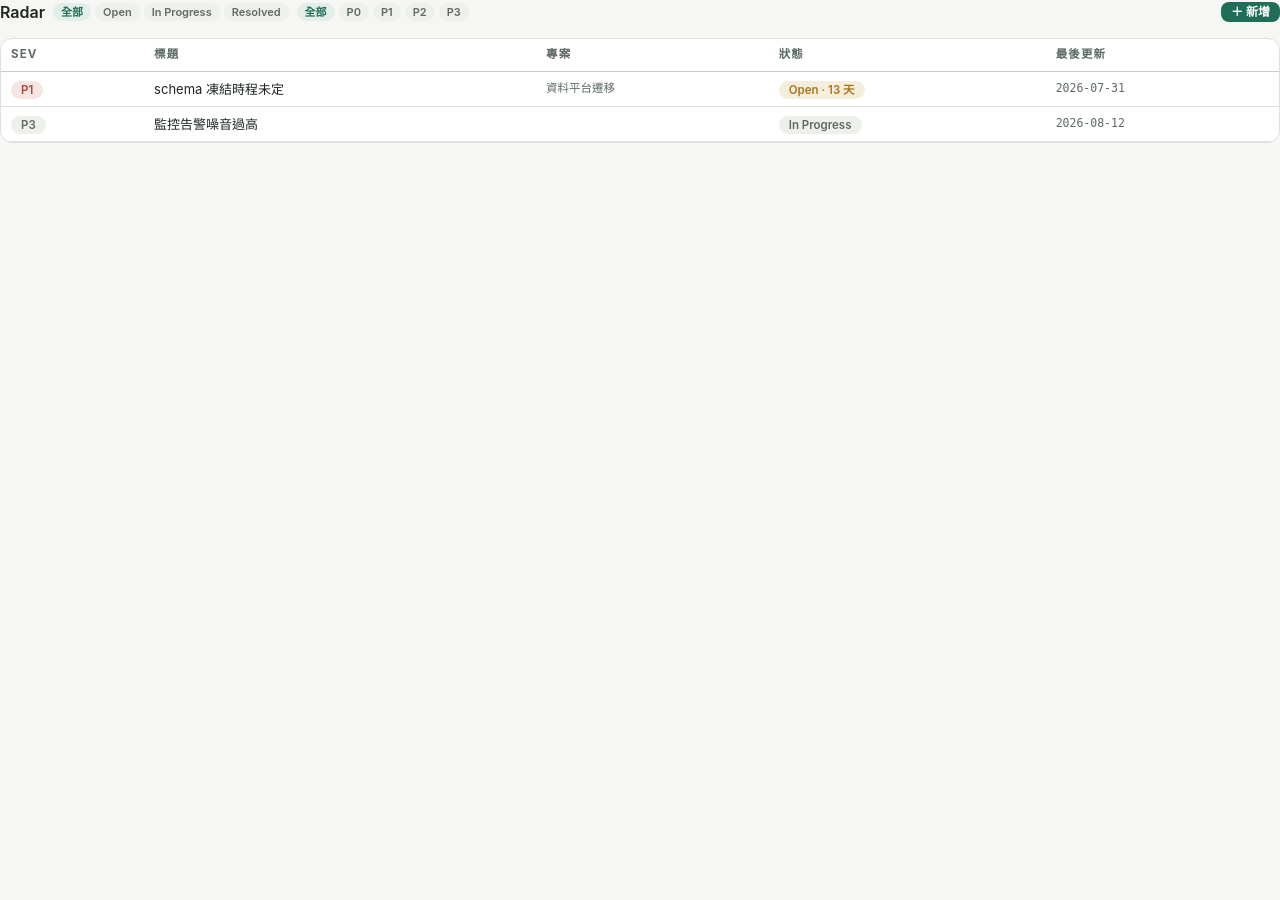
Radar › surfaces a failed save instead of leaving the drawer looking unresponsive
What coordinates should you click on to do the following:
click the text "監控告警噪音過高"
I would click on:
 (206, 124)
Its box is x1=144 y1=106 x2=536 y2=141.
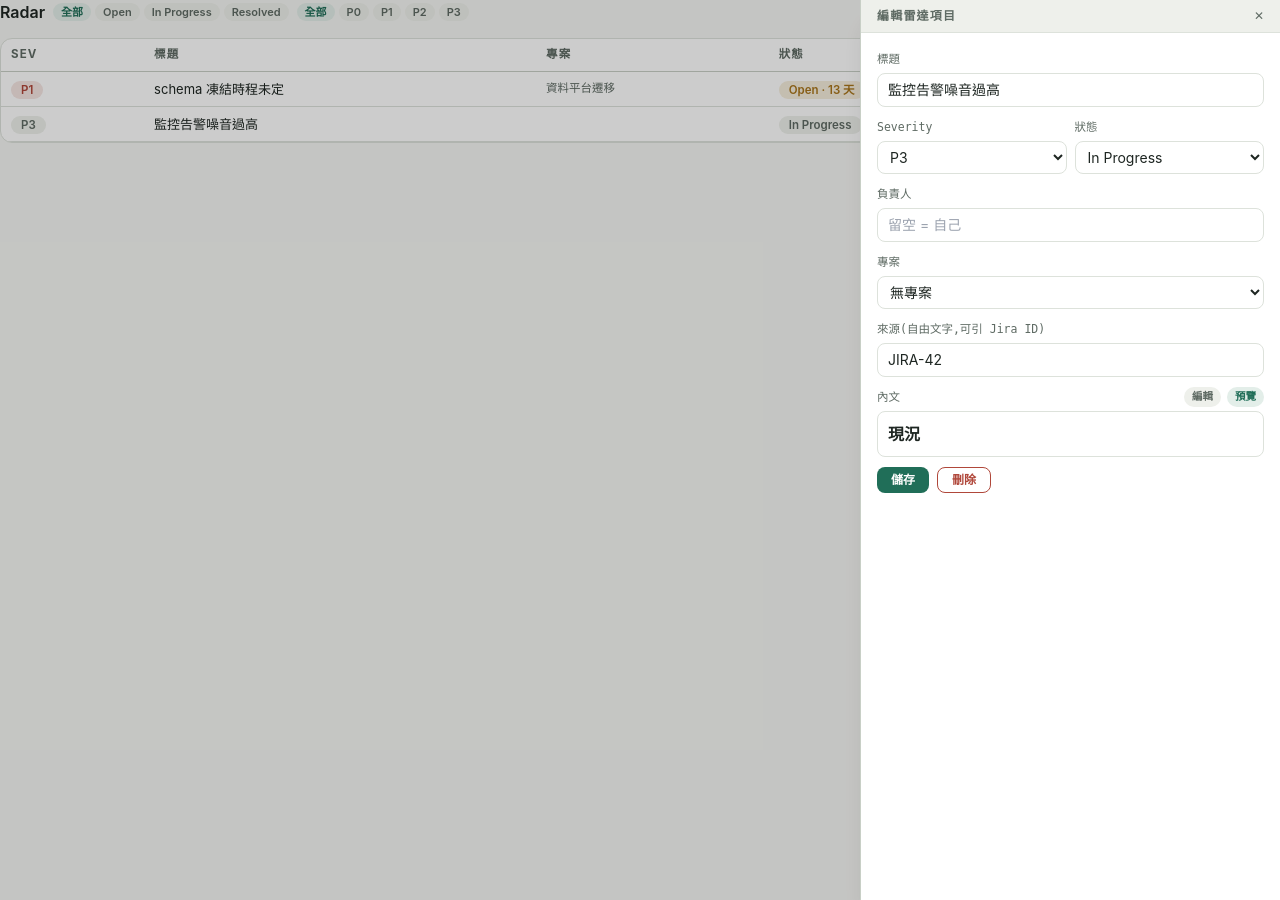
What coordinates should you click on to do the following:
click the button "儲存"
I would click on:
 (903, 480)
Its box is x1=877 y1=467 x2=929 y2=493.
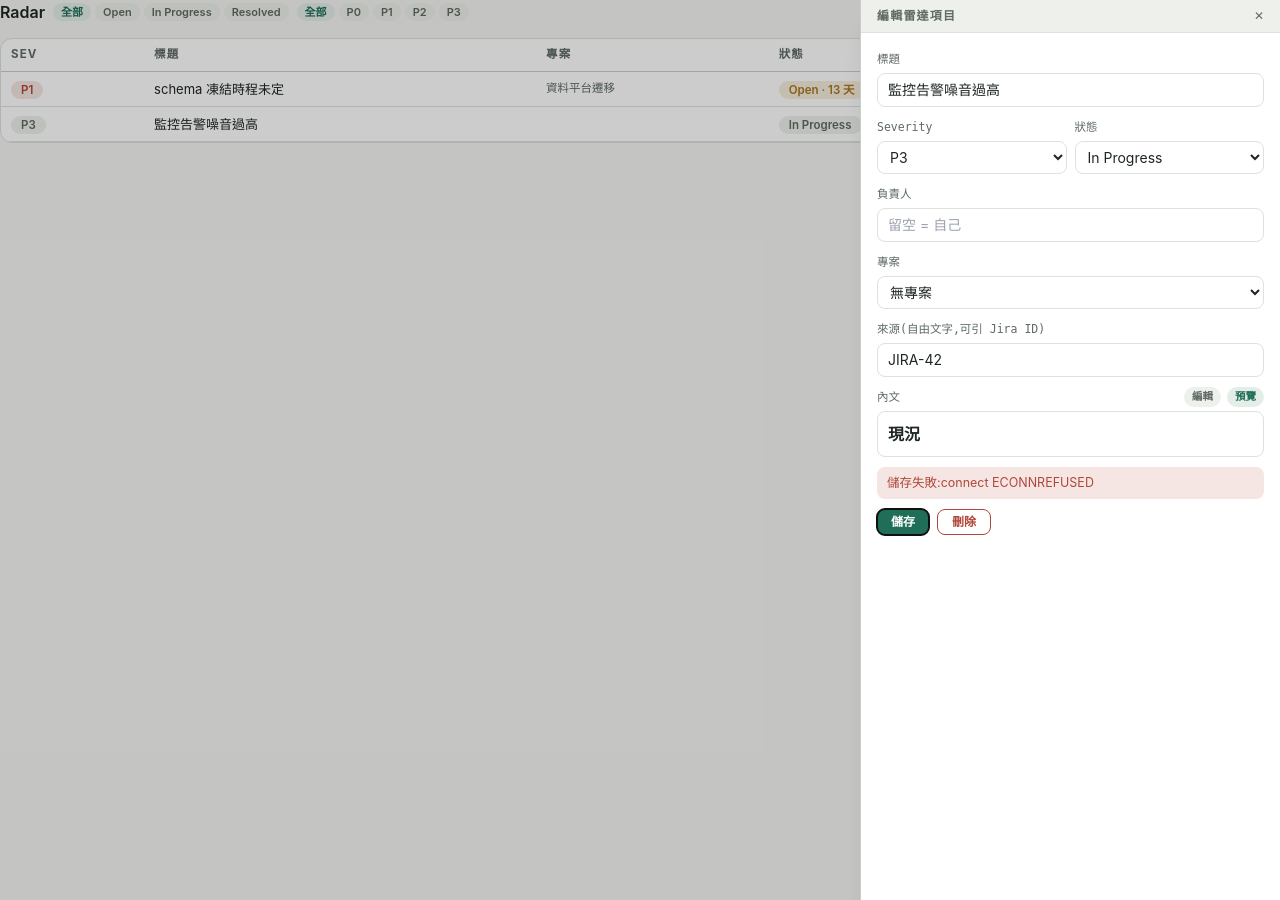
Now the heading "編輯雷達項目" is shown, box x1=877 y1=8 x2=956 y2=24
Now the message reads "儲存失敗:connect ECONNREFUSED", box x1=877 y1=467 x2=1264 y2=499
